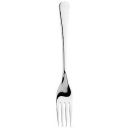fork: (48, 1, 78, 126)
